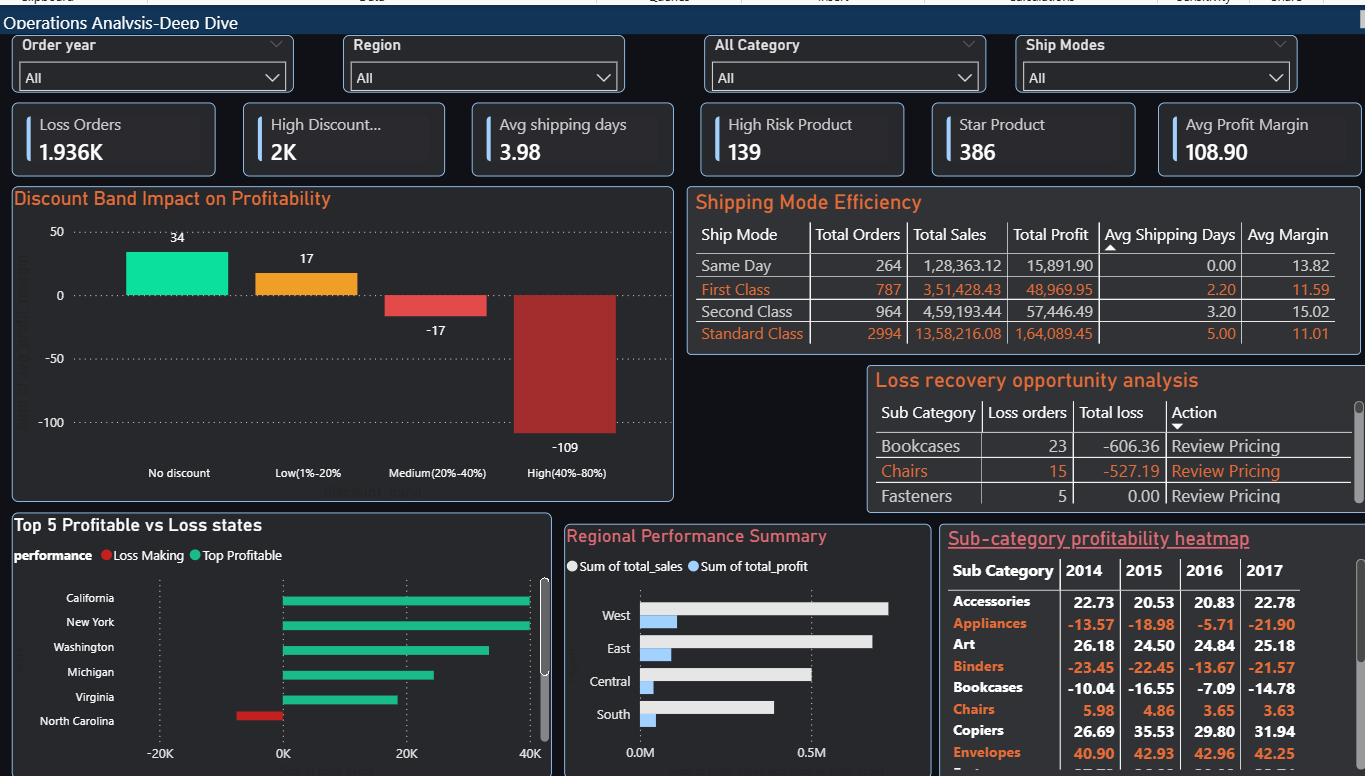

This screenshot's page, from the dashboard's own definition file:
{"tool":"powerbi","page":{"name":"Operations Analysis","canvas":[1280,720],"ordinal":2},"visuals":[{"type":"textbox","box":[0,0,1280.3,27.4],"z":0},{"type":"cardVisual","fields":{"Data":["CountNonNull(superstore orders.profit_status)"]},"box":[12.3,90.6,189.4,68.6],"z":1000},{"type":"cardVisual","fields":{"Data":["CountNonNull(superstore product_matrix.product_status)"]},"box":[868.6,90.6,189.4,68.6],"z":2000},{"type":"cardVisual","fields":{"Data":["CountNonNull(superstore product_matrix.product_status)"]},"box":[653.2,90.6,189.4,68.6],"z":3000},{"type":"cardVisual","fields":{"Data":["Avg(superstore orders.shipping_days)"]},"box":[440.5,90.6,188,68.6],"z":4000},{"type":"cardVisual","fields":{"Data":["Sum(superstore discount_impact.loss_orders)"]},"box":[227.8,90.6,188,68.6],"z":5000},{"type":"cardVisual","fields":{"Data":["superstore orders.Avg Profit Margin"]},"box":[1078.6,90.6,189.4,68.6],"z":6000},{"type":"clusteredColumnChart","title":"Discount Band Impact on Profitability","fields":{"Category":["superstore discount_impact.discount_band"],"Y":["Sum(superstore discount_impact.avg_profit_margin)"]},"box":[12.3,168.8,616.1,293.7],"z":7000},{"type":"tableEx","title":"Shipping Mode Efficiency","fields":{"Values":["superstore shipping_efficiency.ship_mode","superstore shipping_efficiency.total_orders","superstore shipping_efficiency.total_sales","superstore shipping_efficiency.total_profit","superstore shipping_efficiency.avg_shipping_days","superstore shipping_efficiency.avg_margin"]},"box":[640.8,168.8,627.1,156.4],"z":8000},{"type":"clusteredBarChart","title":"Top 5 Profitable vs Loss states","fields":{"Category":["superstore top_bottom_states.state"],"Series":["superstore top_bottom_states.performance"],"Y":["Sum(superstore top_bottom_states.total_profit)"]},"box":[12.3,472,502.2,248.4],"z":9000},{"type":"clusteredBarChart","title":"Regional Performance Summary","fields":{"Category":["superstore regional_performance.region"],"Y":["Sum(superstore regional_performance.total_sales)","Sum(superstore regional_performance.total_profit)"]},"box":[526.9,483,341.7,237.4],"z":10000},{"type":"tableEx","title":"Loss recovery opportunity analysis","fields":{"Values":["superstore loss_recovery.sub_category","Sum(superstore loss_recovery.loss_orders)","Sum(superstore loss_recovery.total_loss)","superstore loss_recovery.recommended_action"]},"box":[797.7,334.9,470.9,137.2],"z":11000},{"type":"pivotTable","title":"Sub-category profitability heatmap","fields":{"Rows":["superstore subcategory_heatmap.sub_category"],"Columns":["superstore subcategory_heatmap.order_year"],"Values":["Sum(superstore subcategory_heatmap.avg_margin)"]},"box":[875.5,483,404.8,237.4],"z":12000},{"type":"slicer","fields":{"Values":["superstore orders.order_year"]},"box":[12.3,27.4,262.1,53.5],"z":13000},{"type":"slicer","fields":{"Values":["superstore orders.category"]},"box":[657.3,27.4,262.1,53.5],"z":14000},{"type":"slicer","fields":{"Values":["superstore orders.region"]},"box":[321.1,27.4,262.1,53.5],"z":15000},{"type":"slicer","fields":{"Values":["superstore orders.ship_mode"]},"box":[946.8,27.4,262.1,53.5],"z":16000}]}

Visuals, with their boxes on the page's 1280x720 design canvas (x1, y1, x2, y2). These are canvas units, not pixel positions in the 1365x776 screenshot, which may show the page scaled, cropped or inside an application window:
textbox: [0,0,1280,27]
cardVisual - CountNonNull(superstore orders.profit_status): [12,91,202,159]
cardVisual - CountNonNull(superstore product_matrix.product_status): [869,91,1058,159]
cardVisual - CountNonNull(superstore product_matrix.product_status): [653,91,843,159]
cardVisual - Avg(superstore orders.shipping_days): [440,91,628,159]
cardVisual - Sum(superstore discount_impact.loss_orders): [228,91,416,159]
cardVisual - superstore orders.Avg Profit Margin: [1079,91,1268,159]
"Discount Band Impact on Profitability" clusteredColumnChart: [12,169,628,462]
"Shipping Mode Efficiency" tableEx: [641,169,1268,325]
"Top 5 Profitable vs Loss states" clusteredBarChart: [12,472,514,720]
"Regional Performance Summary" clusteredBarChart: [527,483,869,720]
"Loss recovery opportunity analysis" tableEx: [798,335,1269,472]
"Sub-category profitability heatmap" pivotTable: [876,483,1280,720]
slicer - superstore orders.order_year: [12,27,274,81]
slicer - superstore orders.category: [657,27,919,81]
slicer - superstore orders.region: [321,27,583,81]
slicer - superstore orders.ship_mode: [947,27,1209,81]
